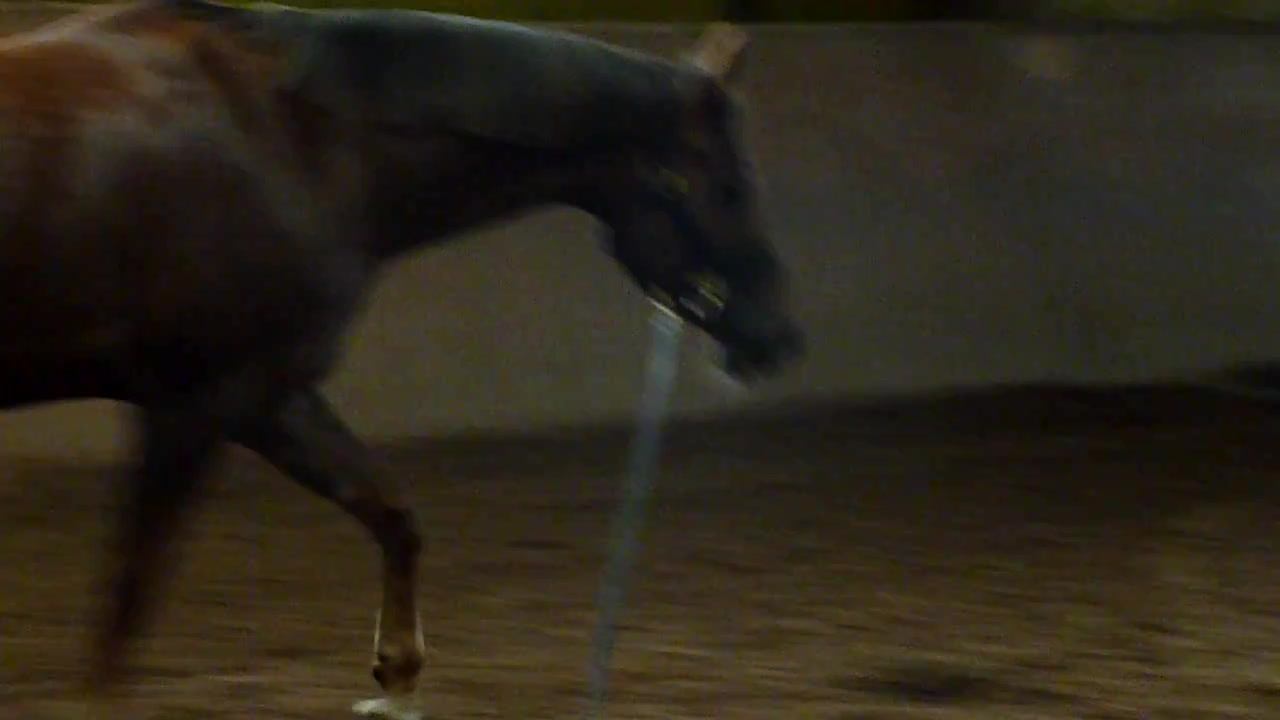horse: (1, 2, 809, 720)
